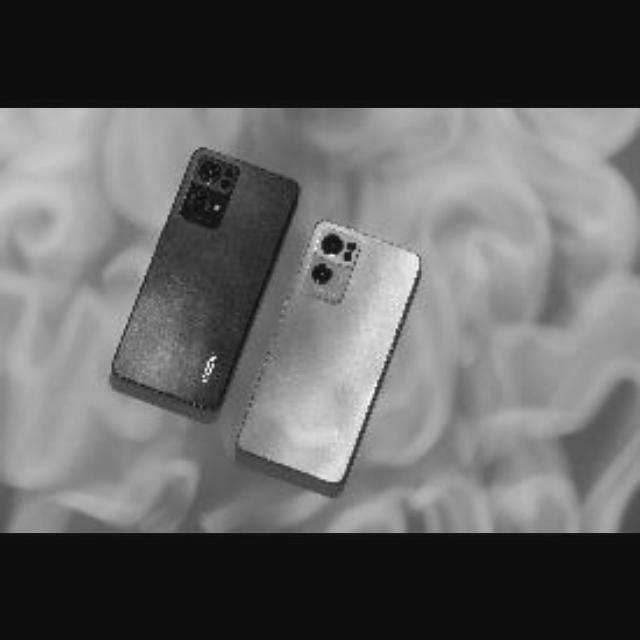fake: (230, 201, 427, 528)
